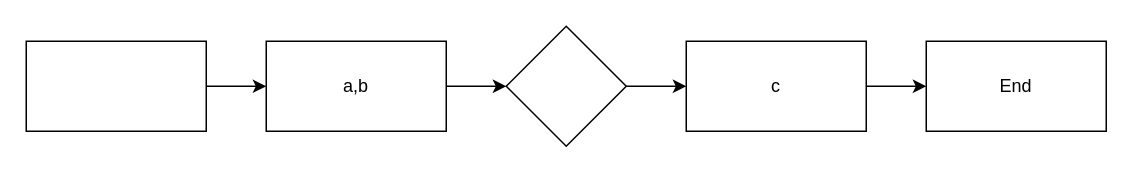
The diagram is 1133 pixels wide and 173 high, and some of its shapes have lost their labels. Here are the shapes that lost their labels. From the top down, the centre of each, then its label:
At [115,85]: "Start".
At [565,85]: "c=a+b".
